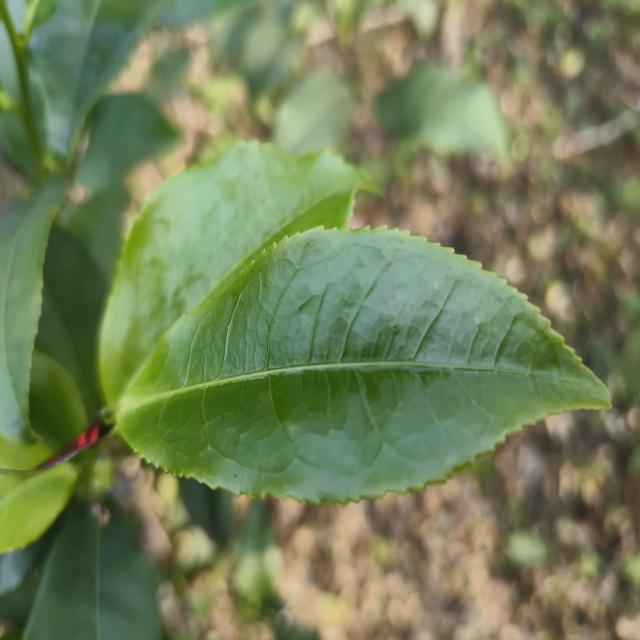Leaf: (117, 227, 609, 503), (99, 141, 374, 404), (30, 0, 161, 160), (23, 496, 162, 640), (0, 181, 63, 442), (377, 63, 508, 162), (76, 93, 180, 192), (0, 436, 78, 553), (273, 71, 353, 154), (232, 501, 282, 619)
